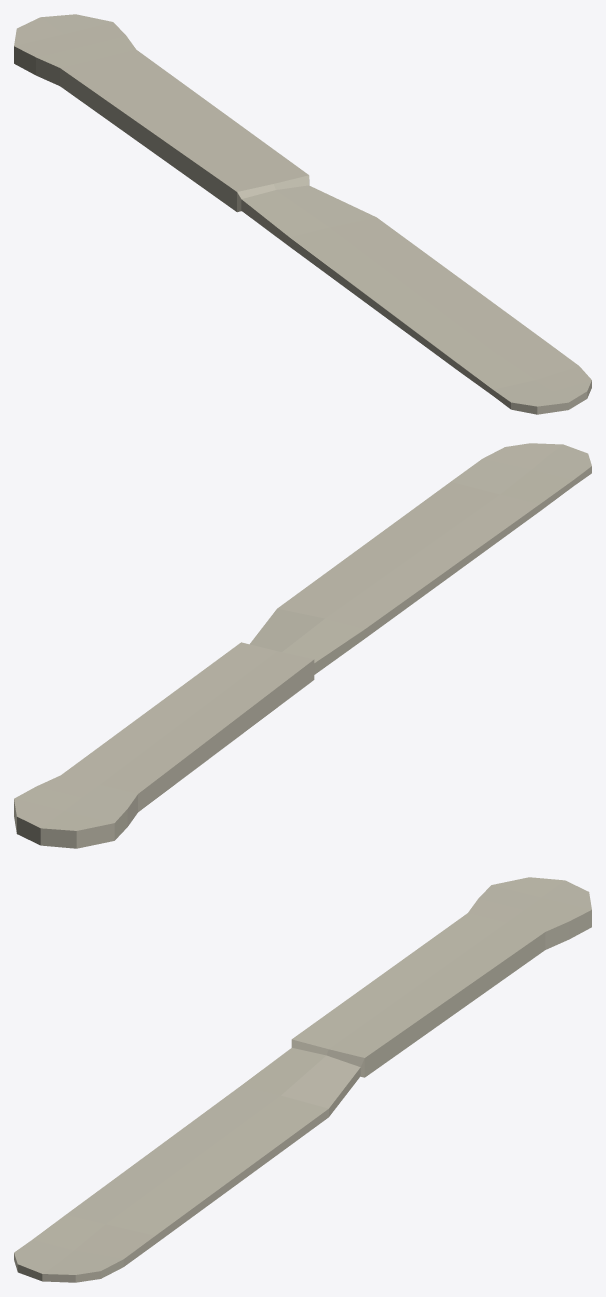
The model's file is ButterKnife_01.fbx.
3 views of the same model, one above another, from view 1: azimuth 30°, elevation 25°; view 2: azimuth 150°, elevation 25°; view 3: azimuth 330°, elevation 25° (orthographic).
Visible parts, largest first — view 1: ButterKnife_01; view 2: ButterKnife_01; view 3: ButterKnife_01.
Boxes of the visible parts, box(x1,y1,x2,y2) form: ButterKnife_01: box(14, 14, 591, 414); ButterKnife_01: box(14, 443, 591, 848); ButterKnife_01: box(14, 877, 591, 1282).
Size of the model in its own units: 0.0226 by 0.00477 by 0.2014.
